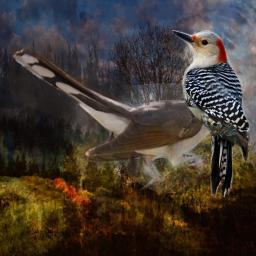Cuckoo: (10, 39, 251, 193)
Woodpecker: (172, 30, 250, 197)
